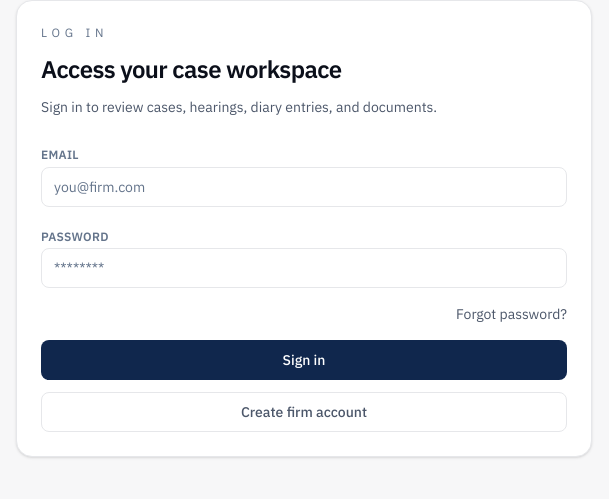
Test: login page › rejects a malformed email without contacting the server
Type "not-an-email" into the field labelled "Email" at (304, 187), box x1=41 y1=167 x2=567 y2=207
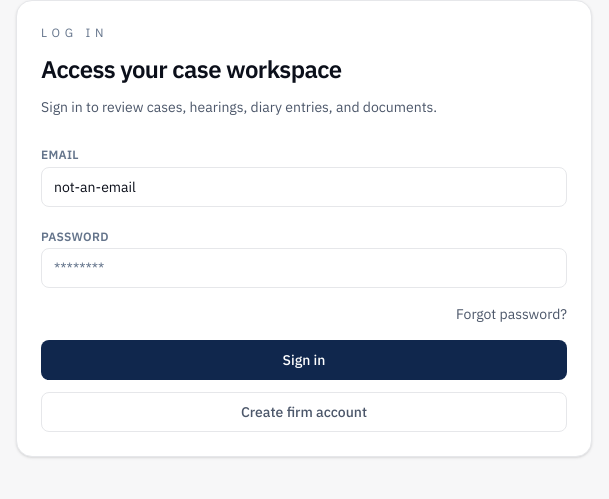
Type "secret-pass" into the password field labelled "Password" at (304, 268), box x1=41 y1=248 x2=567 y2=288
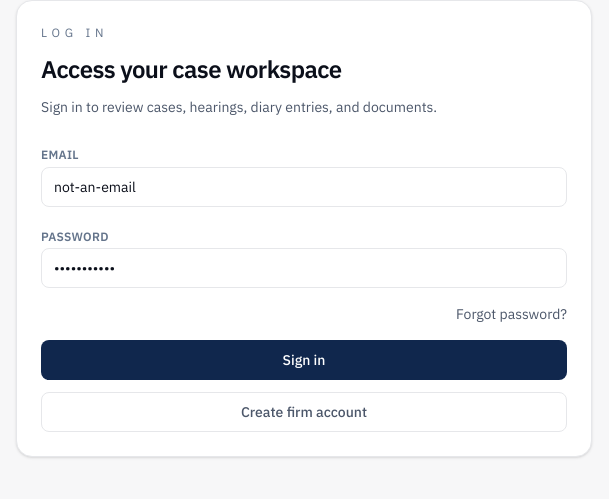
Submit the form "Sign in", box x1=41 y1=141 x2=567 y2=432
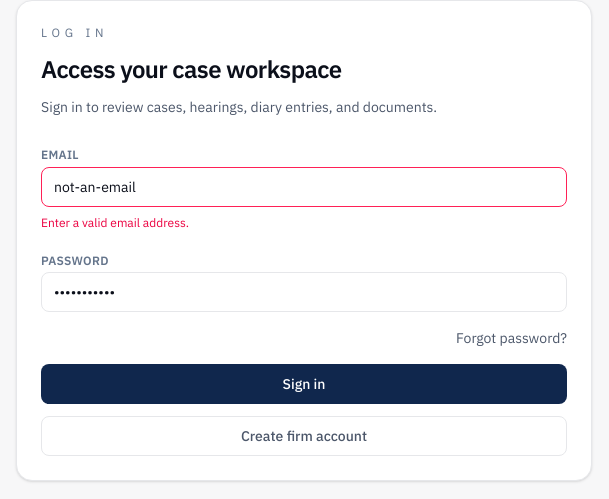
Result: the text "Enter a valid email address." is shown at x1=41 y1=215 x2=189 y2=230
